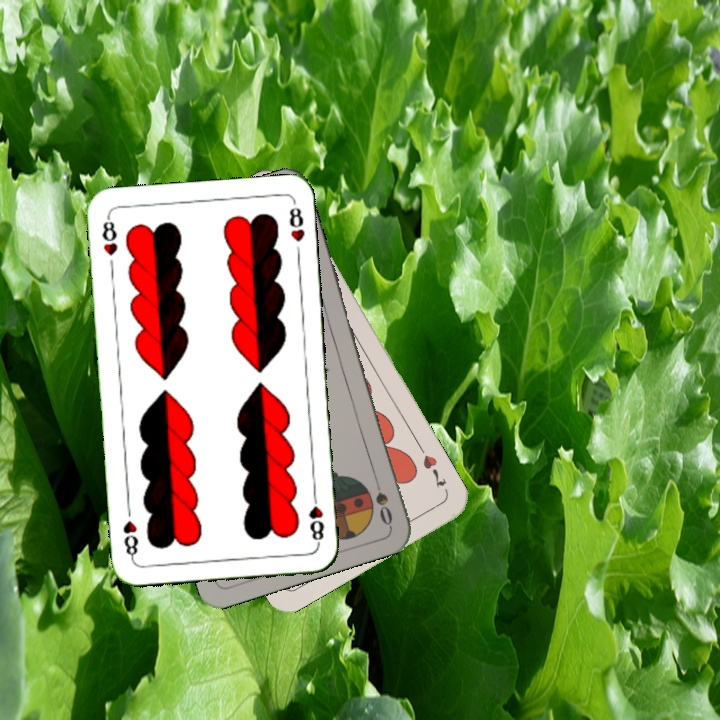H7: (418, 451, 449, 491)
H8: (305, 488, 327, 547), (97, 212, 120, 258)
SO: (369, 470, 395, 529)
